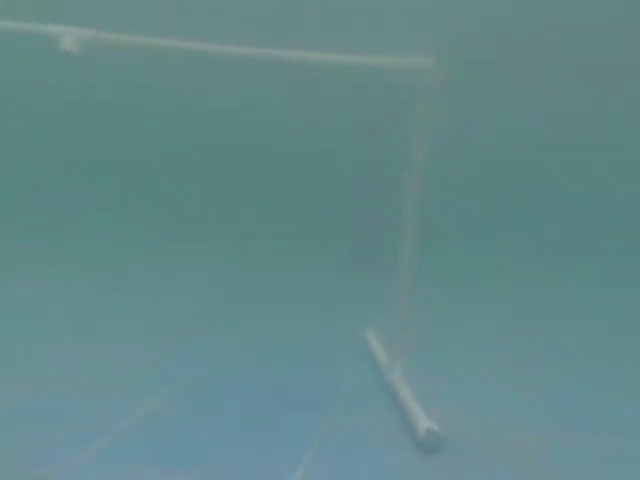gate: (3, 6, 486, 480)
